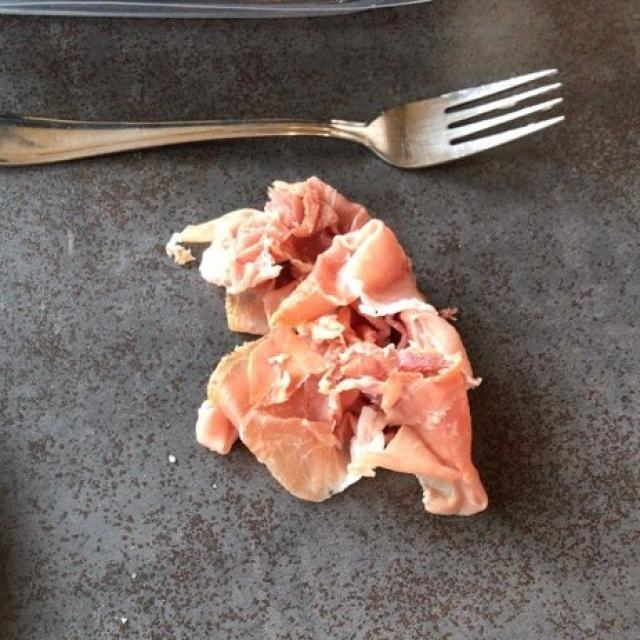ham: (168, 181, 486, 506)
